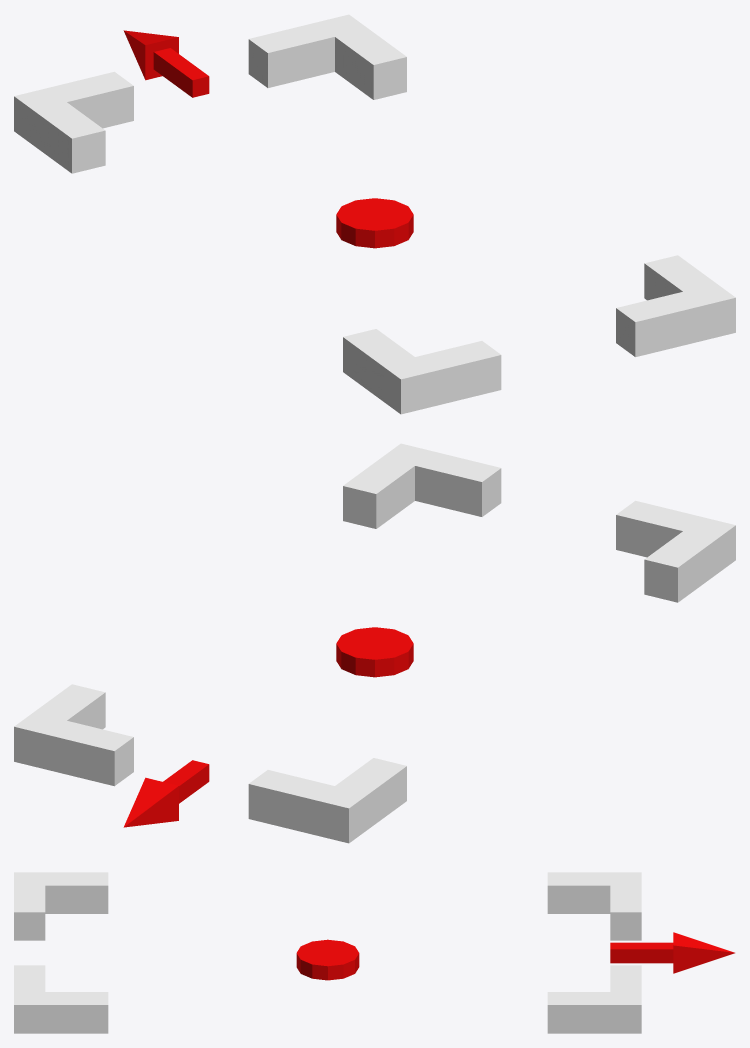
3 renders of one model, top to bottom at view 1: azimuth 30°, elevation 25°; view 2: azimuth 150°, elevation 25°; view 3: azimuth 270°, elevation 25°, orthographic. The views are drawn at different scales.
Parts seen in each view (by area): view 1: i_frame_Cube.001, pointer_Cylinder, arrow_Cube; view 2: i_frame_Cube.001, pointer_Cylinder, arrow_Cube; view 3: i_frame_Cube.001, arrow_Cube, pointer_Cylinder.
Boxes of the visible parts, x1,y1,x2,y2 form: i_frame_Cube.001: [14, 14, 735, 414]; pointer_Cylinder: [336, 198, 413, 248]; arrow_Cube: [123, 30, 209, 97]; i_frame_Cube.001: [14, 443, 735, 843]; pointer_Cylinder: [336, 627, 413, 677]; arrow_Cube: [123, 760, 209, 827]; i_frame_Cube.001: [14, 872, 641, 1033]; arrow_Cube: [610, 932, 734, 973]; pointer_Cylinder: [296, 939, 359, 980].
Bounding box in the file's own units: 2 × 0.2 × 4.6.
2 materials, 2 textured.
